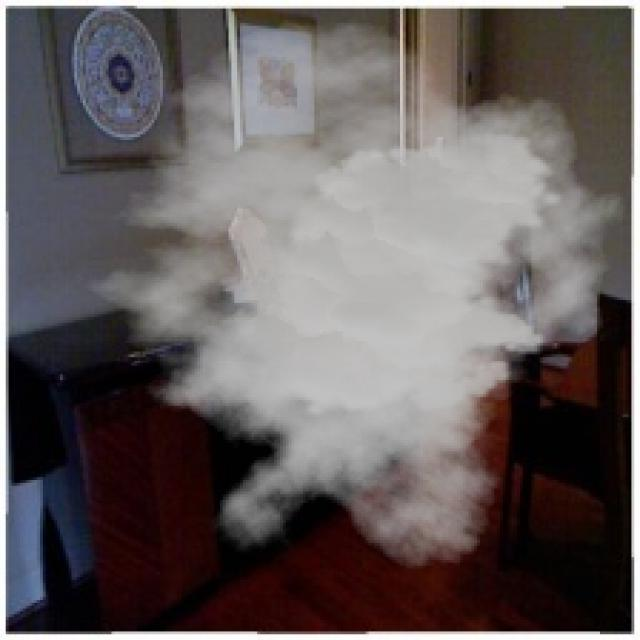Smoke: (63, 19, 626, 572)
